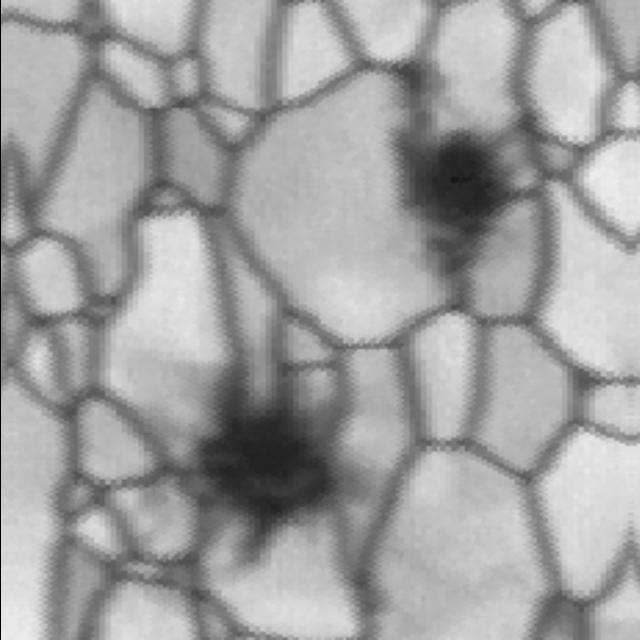good_void: (134, 331, 431, 637), (372, 107, 553, 300)
